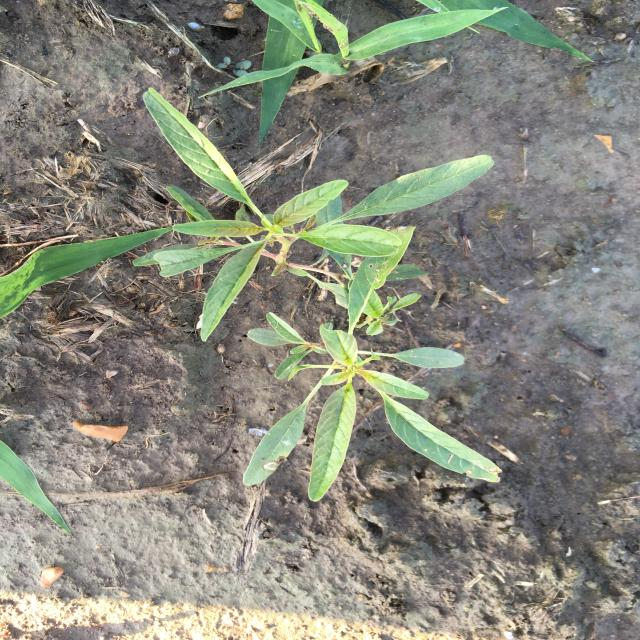Waterhemp: (130, 86, 498, 344), (240, 224, 505, 503)
